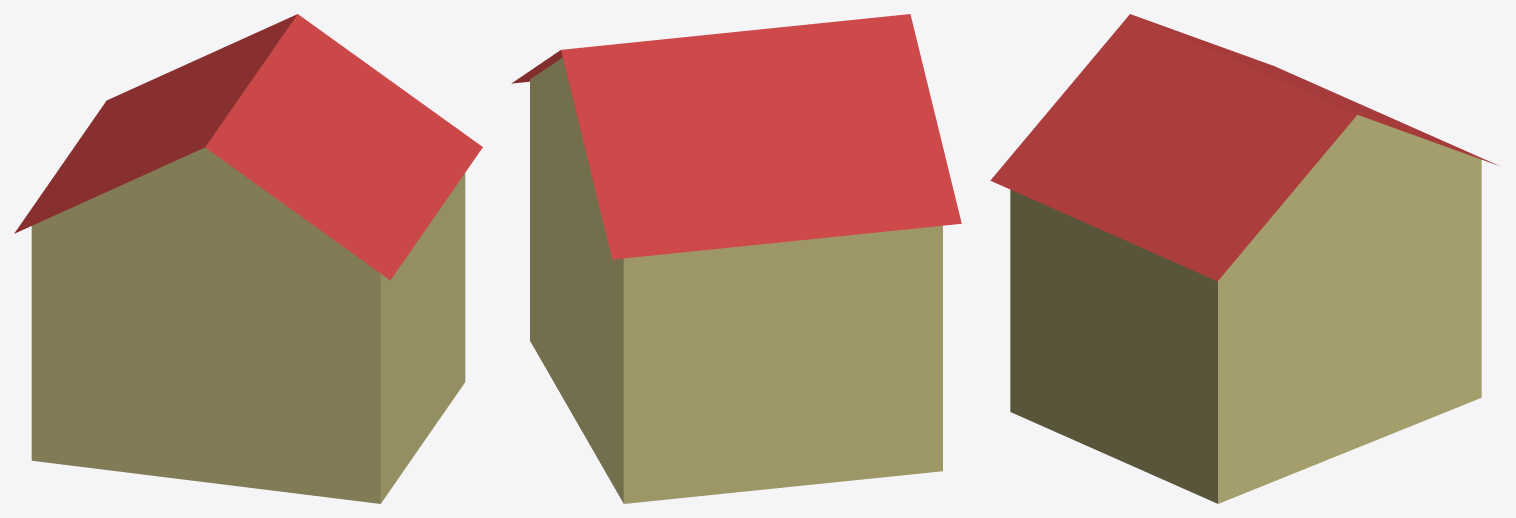
3 renders of one model, left to right at view 1: azimuth 30°, elevation 25°; view 2: azimuth 150°, elevation 25°; view 3: azimuth 270°, elevation 25°, orthographic. The views are drawn at different scales.
Size of the model in its own units: 17.86 by 17.94 by 13.21.
